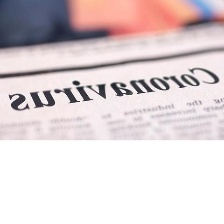news_paper: (0, 18, 224, 142)
